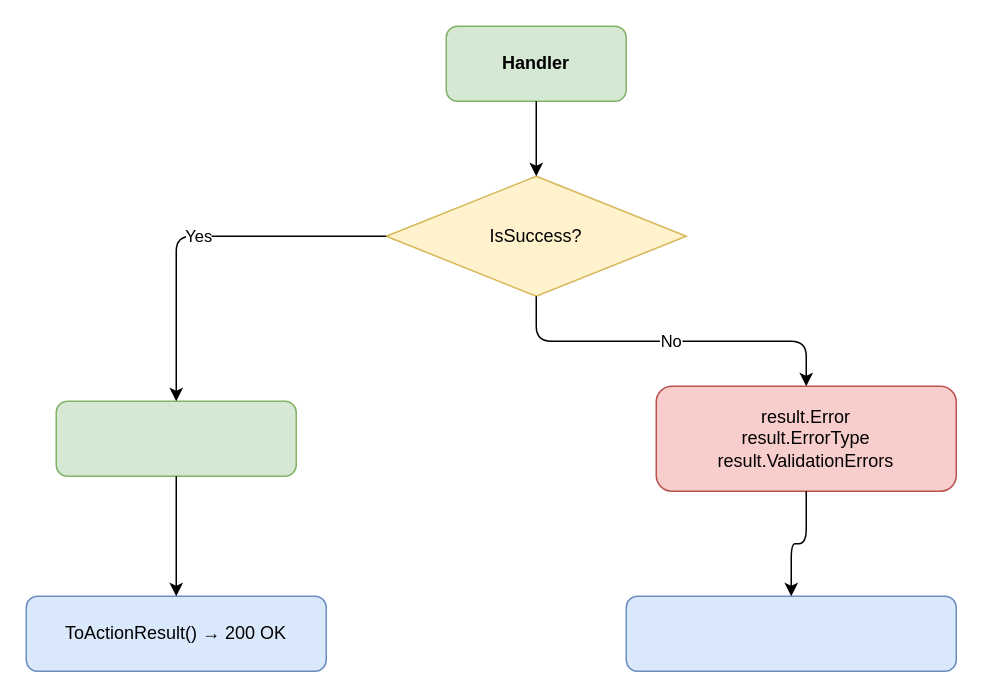
This 983x698 diagram has some shape labels left out. Here are the shapes that lost their labels. From the top down, the centre of each, then its label:
At (175,438): "result.Value".
At (790,633): "ToActionResult() → 4xx/5xx".
